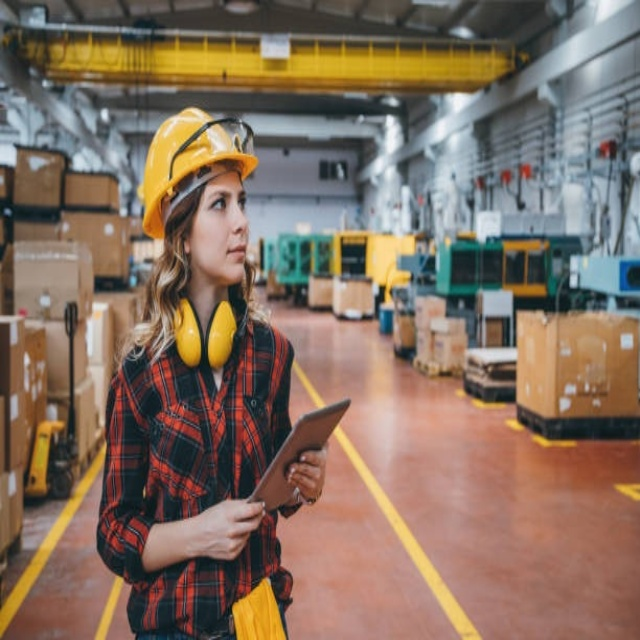Sin_gafas: (203, 182, 248, 220)
Sin_guantes: (193, 497, 268, 563), (284, 445, 327, 507)
Sin_mascara: (219, 234, 249, 271)
